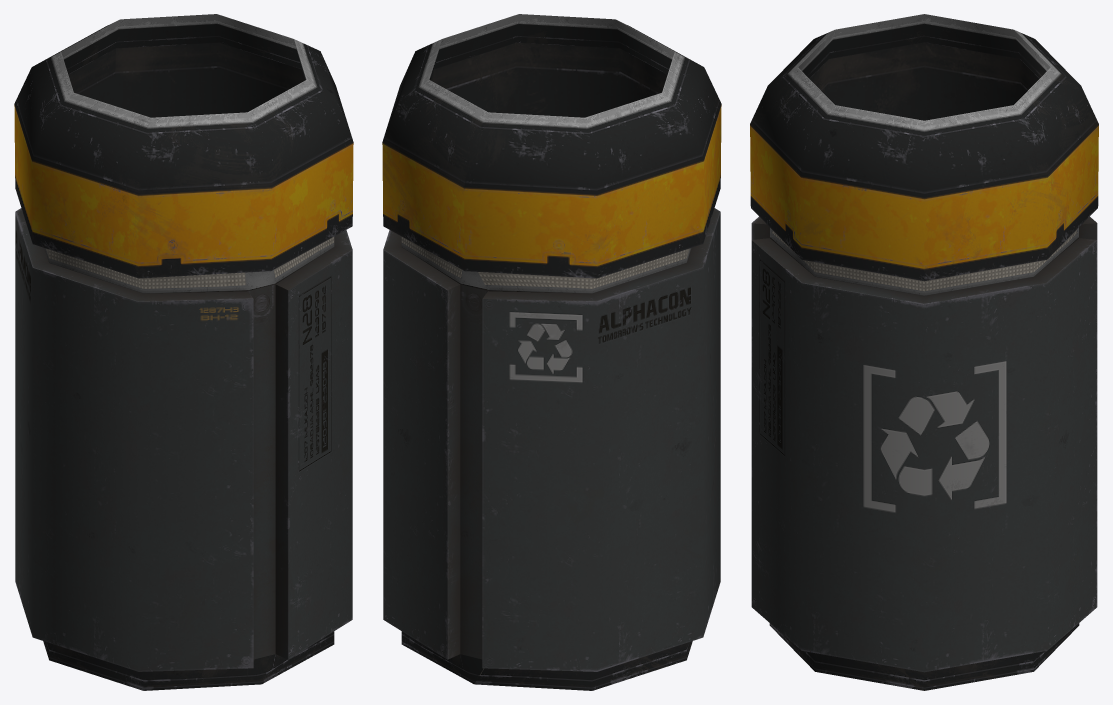
Rendered from Sub_Trash_Bin_L2.fbx.
3 renders of one model, left to right at view 1: azimuth 30°, elevation 25°; view 2: azimuth 150°, elevation 25°; view 3: azimuth 270°, elevation 25°, orthographic.
Parts seen in each view (by area): view 1: pCylinder9; view 2: pCylinder9; view 3: pCylinder9.
Part boxes in pixels (bbox=[...]): pCylinder9: bbox=[14, 14, 353, 690]; pCylinder9: bbox=[382, 14, 721, 690]; pCylinder9: bbox=[750, 14, 1098, 690].
Bounding box in the file's own units: 33.45 × 59.05 × 33.45.
